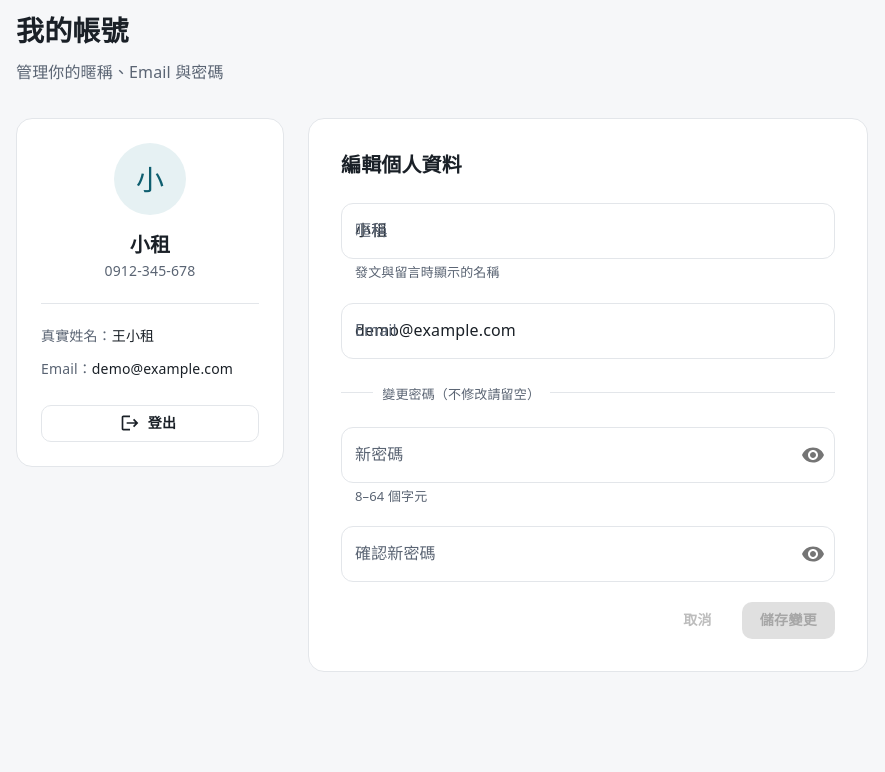
ProfilePage — change password › shows a field error and keeps the session when the current password is wrong
Expected: the field labelled "暱稱" holds "小租", [341, 203, 835, 259]
Type "brand-new-pass-1" into the password field labelled "新密碼" at (563, 455), box [341, 427, 785, 483]
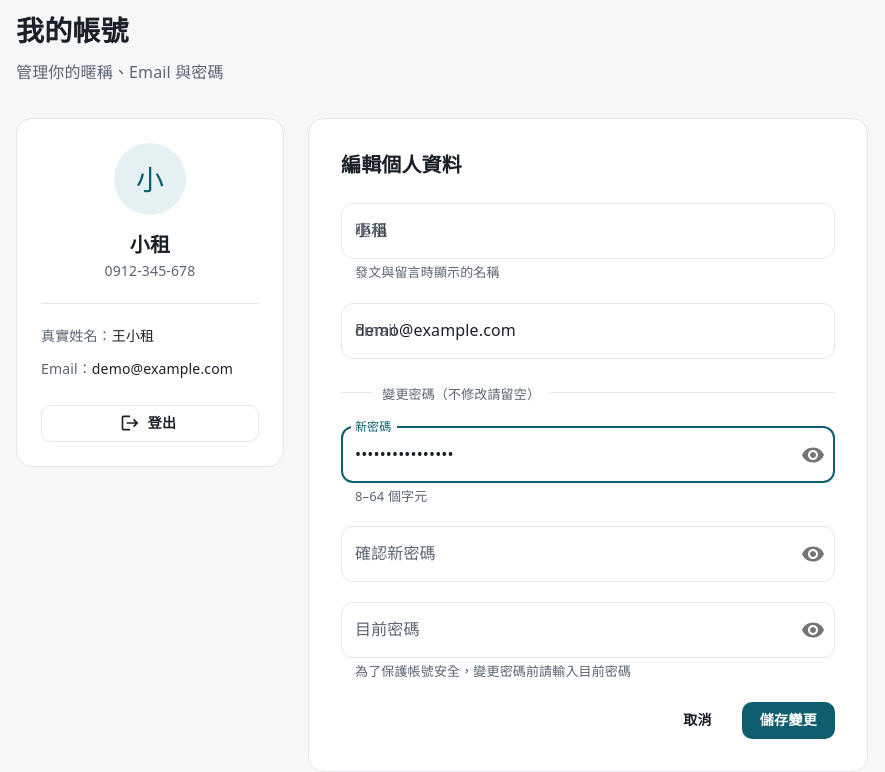
Type "brand-new-pass-1" into the password field labelled "確認新密碼" at (563, 554), box [341, 526, 785, 582]
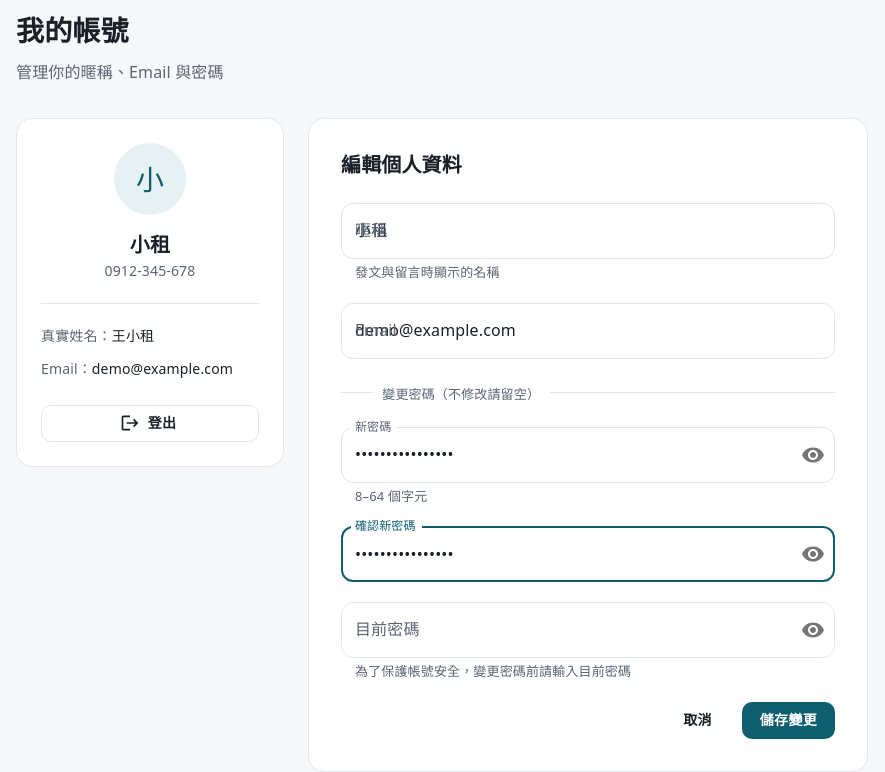
Type "not-my-password" into the password field labelled "目前密碼" at (563, 630), box [341, 602, 785, 658]
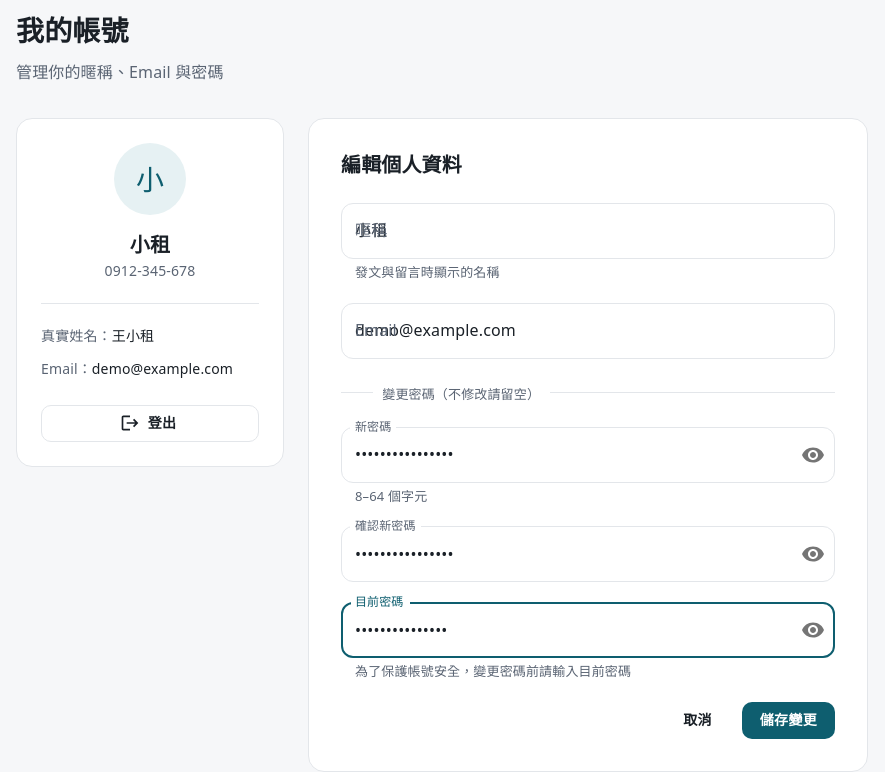
Click the button "儲存變更" at (788, 720), box [742, 702, 835, 739]
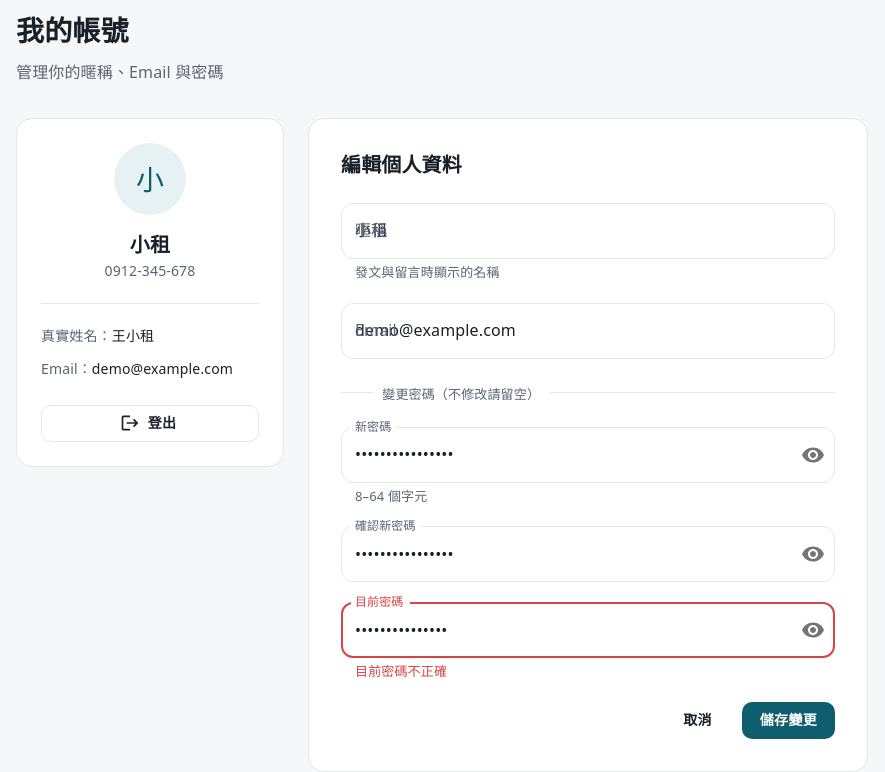
Now the text "目前密碼不正確" is shown, box [355, 662, 447, 680]
